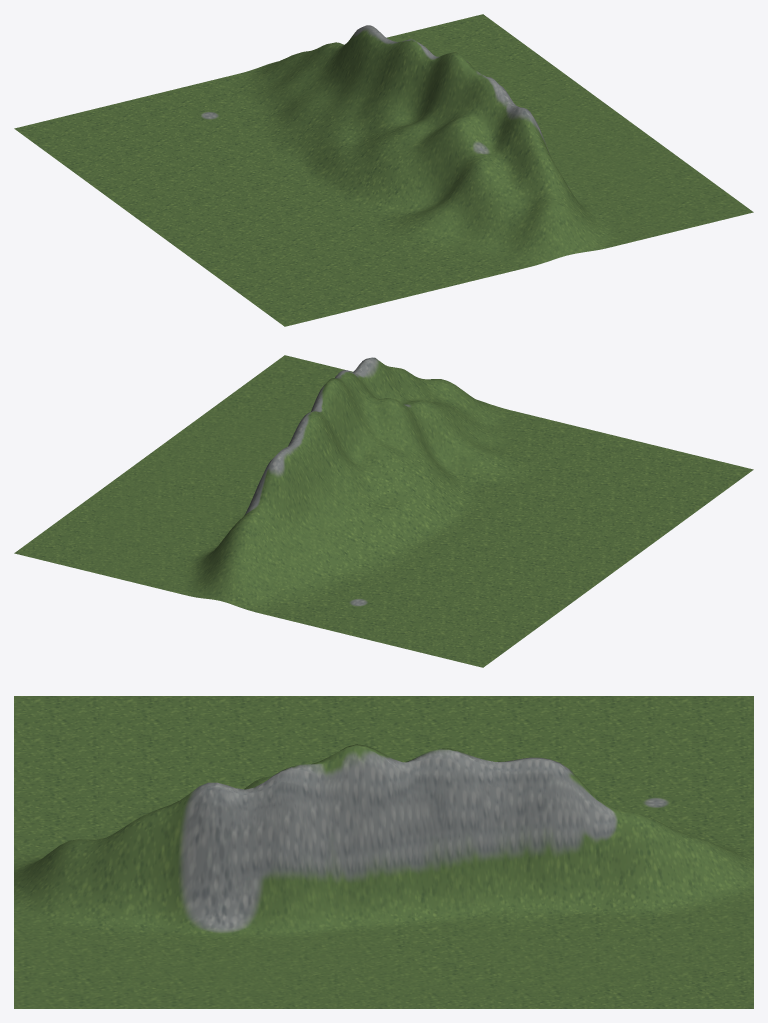
Rendered from Untitled-Project.glb.
3 views of the same model, one above another, from view 1: azimuth 30°, elevation 25°; view 2: azimuth 150°, elevation 25°; view 3: azimuth 270°, elevation 25° (orthographic). The views are drawn at different scales.
Visible parts, largest first — view 1: Terrain 1; view 2: Terrain 1; view 3: Terrain 1.
Part boxes in pixels (x1,y1,x2,y2): Terrain 1: [14, 14, 753, 326]; Terrain 1: [14, 355, 753, 667]; Terrain 1: [14, 696, 753, 1008].
Size of the model in its own units: 60 by 13.31 by 60.
1 material, 1 textured.
